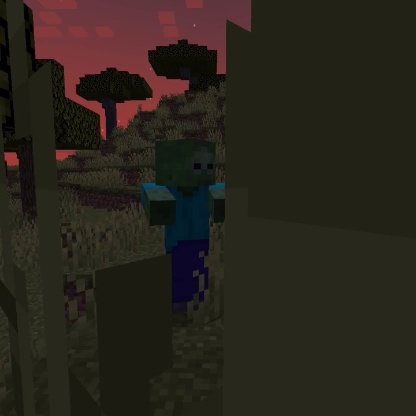zombie: (136, 136, 228, 318)
